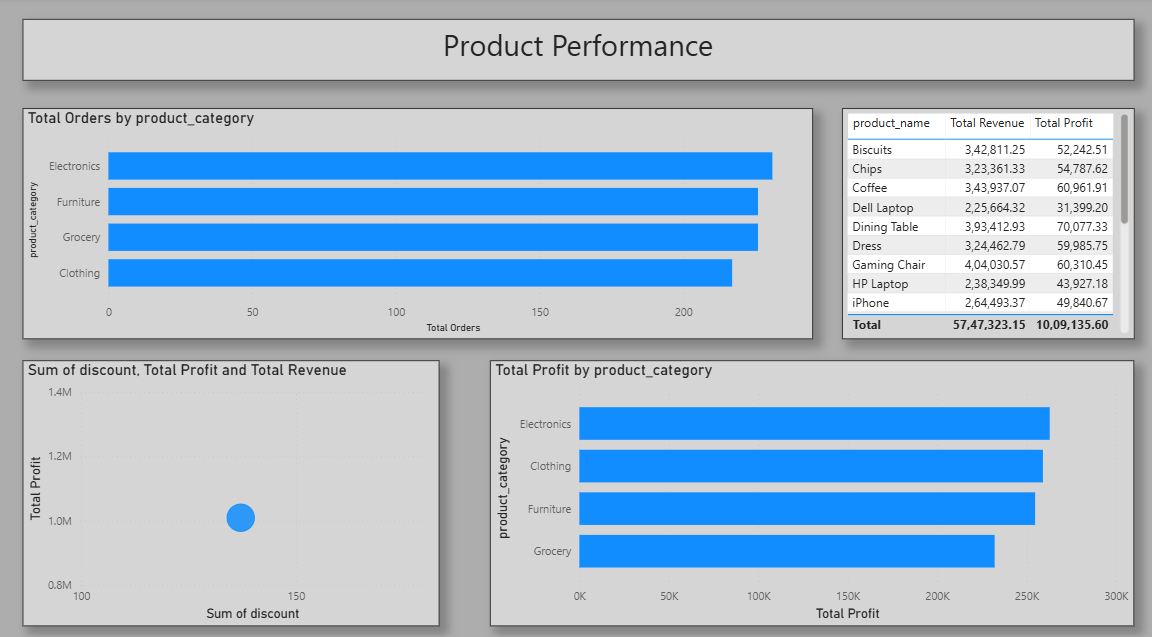

The page's visual inventory and layout, read from the dashboard file:
{"tool":"powerbi","page":{"name":"PRODUCT PERFORMANCE","canvas":[1280,720],"ordinal":1},"visuals":[{"type":"barChart","fields":{"Category":["products.product_category"],"Y":["orders.Total Orders"]},"box":[30.4,123.3,868.4,253.4],"z":0},{"type":"barChart","fields":{"Category":["products.product_category"],"Y":["order_items.Total Profit"]},"box":[544,400.4,707.9,292.3],"z":1000},{"type":"tableEx","fields":{"Values":["products.product_name","order_items.Total Revenue","order_items.Total Profit"]},"box":[930.9,123.3,321,253.4],"z":2000},{"type":"scatterChart","fields":{"X":["Sum(order_items.discount)"],"Y":["order_items.Total Profit"],"Size":["order_items.Total Revenue"]},"box":[30.4,400.4,457.8,292.3],"z":3000},{"type":"textbox","box":[30.4,25.3,1221.4,67.6],"z":4000}]}

Visuals, with their boxes in screenshot pixels (x1, y1, x2, y2), scaled from the page's 1280x720 canvas onto the 1152x637 screenshot:
barChart - products.product_category x orders.Total Orders: select_region(27, 109, 809, 333)
barChart - products.product_category x order_items.Total Profit: select_region(490, 354, 1127, 613)
tableEx - products.product_name x order_items.Total Revenue: select_region(838, 109, 1127, 333)
scatterChart - Sum(order_items.discount) x order_items.Total Profit: select_region(27, 354, 439, 613)
textbox: select_region(27, 22, 1127, 82)
